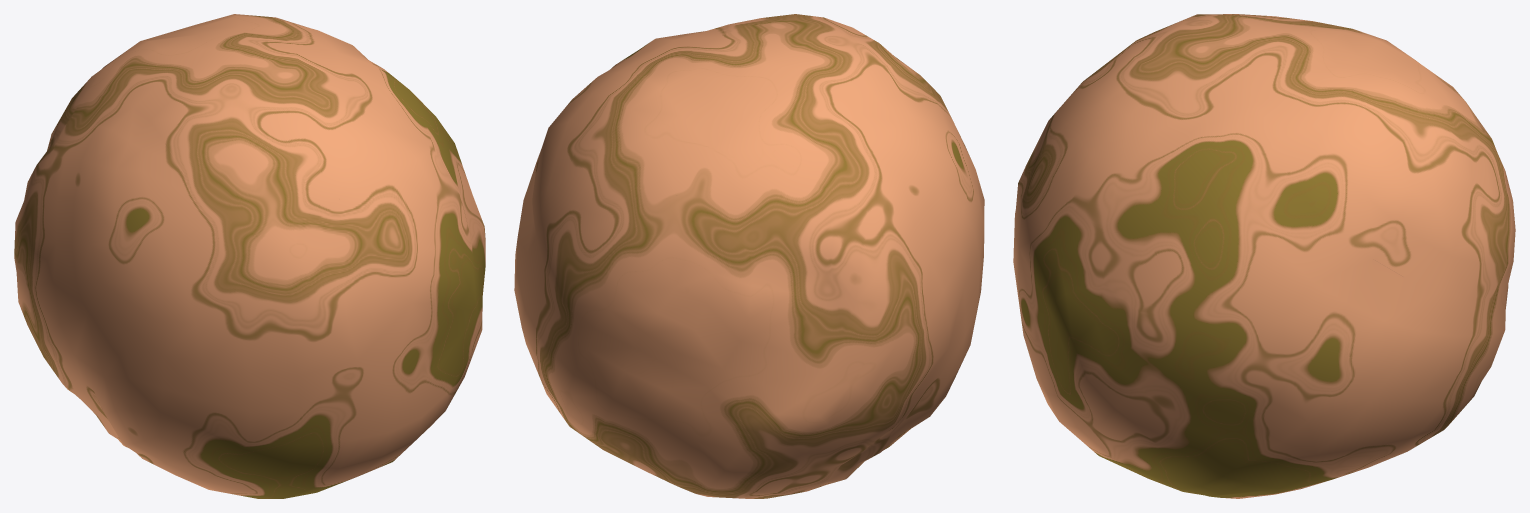
Rendered from Planet_01_dirt.gltf.
3 renders of one model, left to right at view 1: azimuth 30°, elevation 25°; view 2: azimuth 150°, elevation 25°; view 3: azimuth 270°, elevation 25°, orthographic. The views are drawn at different scales.
Visible parts, largest first — view 1: Planet 01 brown; view 2: Planet 01 brown; view 3: Planet 01 brown.
Part boxes in pixels (box(x1,y1,x2,y2)): Planet 01 brown: box(14, 14, 485, 498); Planet 01 brown: box(514, 14, 984, 498); Planet 01 brown: box(1013, 14, 1515, 498).
Bounding box in the file's own units: 2.52 × 2.58 × 2.7.
Materials: 1 (1 with a texture image).
